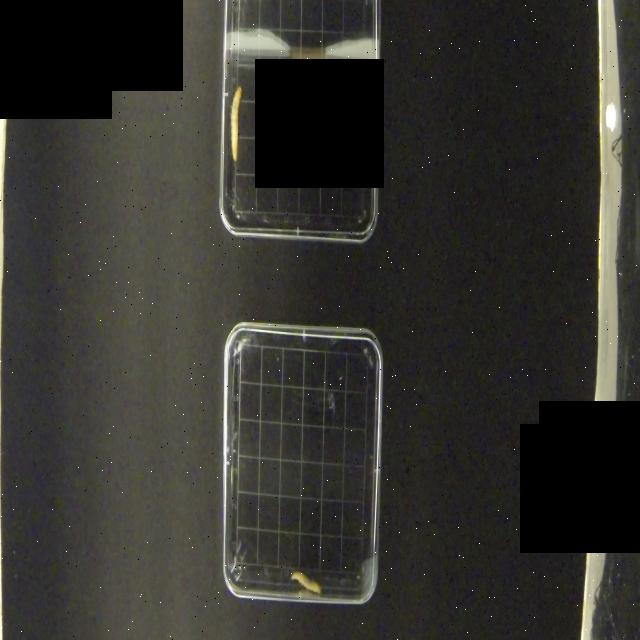larva: (227, 83, 244, 162), (290, 569, 322, 595)
